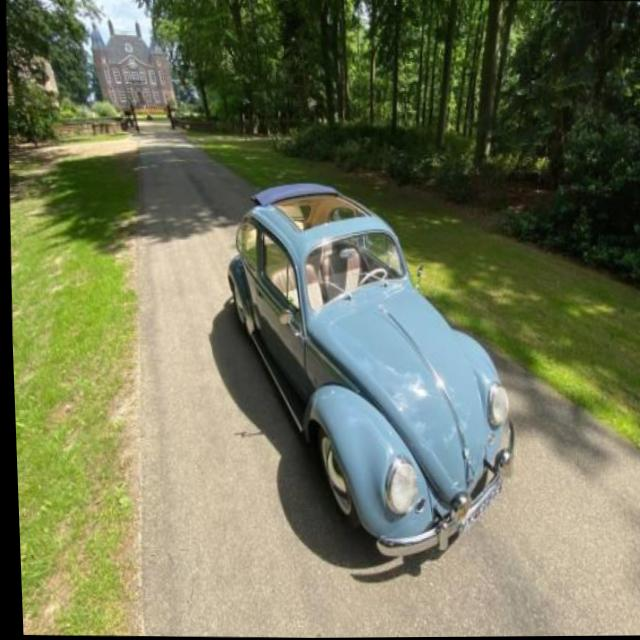vehicle: (212, 182, 523, 552)
